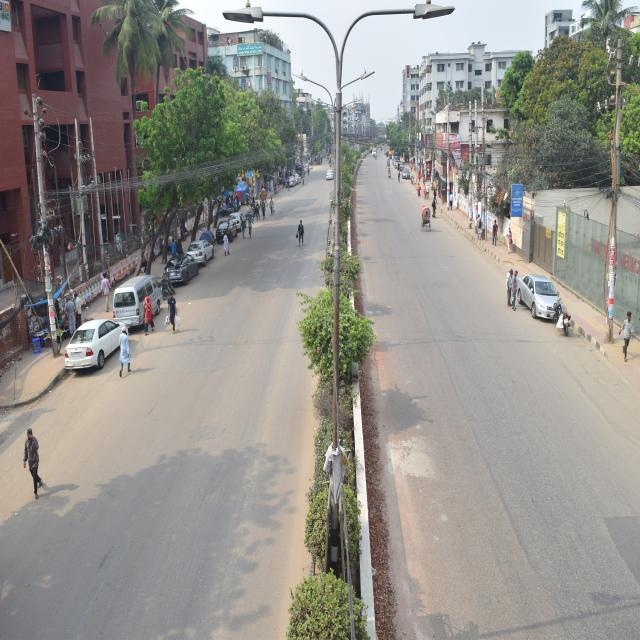car: (65, 308, 134, 371), (520, 261, 564, 314), (160, 234, 199, 284), (184, 230, 217, 264), (546, 298, 574, 335), (227, 204, 247, 234), (216, 218, 235, 245)
microbus: (112, 256, 168, 346)
